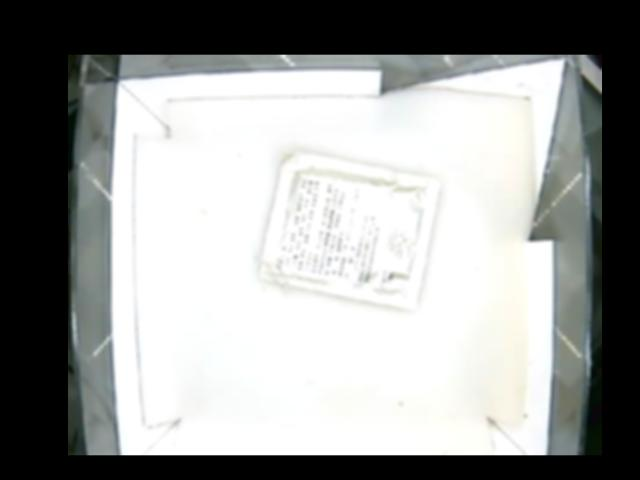Medicine: (259, 148, 437, 307)
